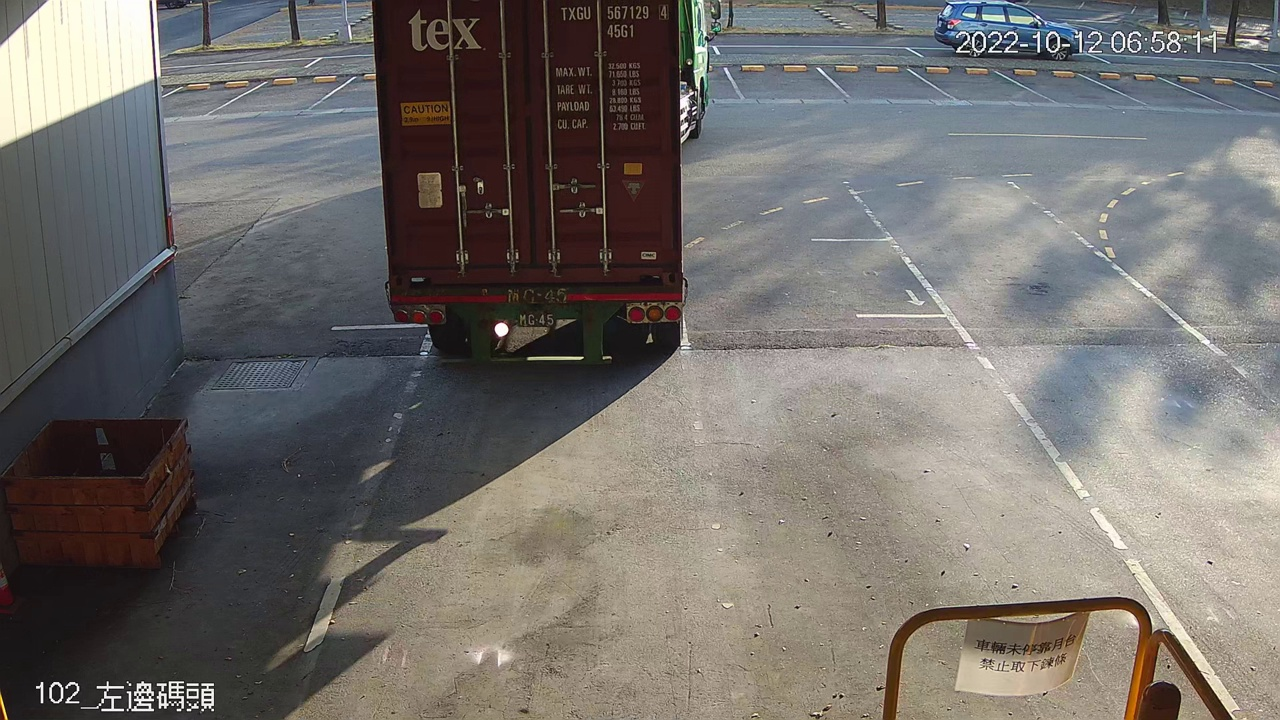container: (554, 1, 671, 46)
